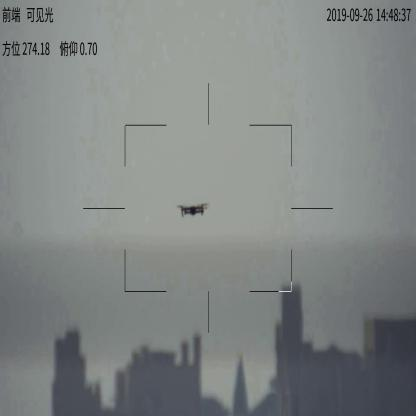uav: (175, 202, 211, 219)
